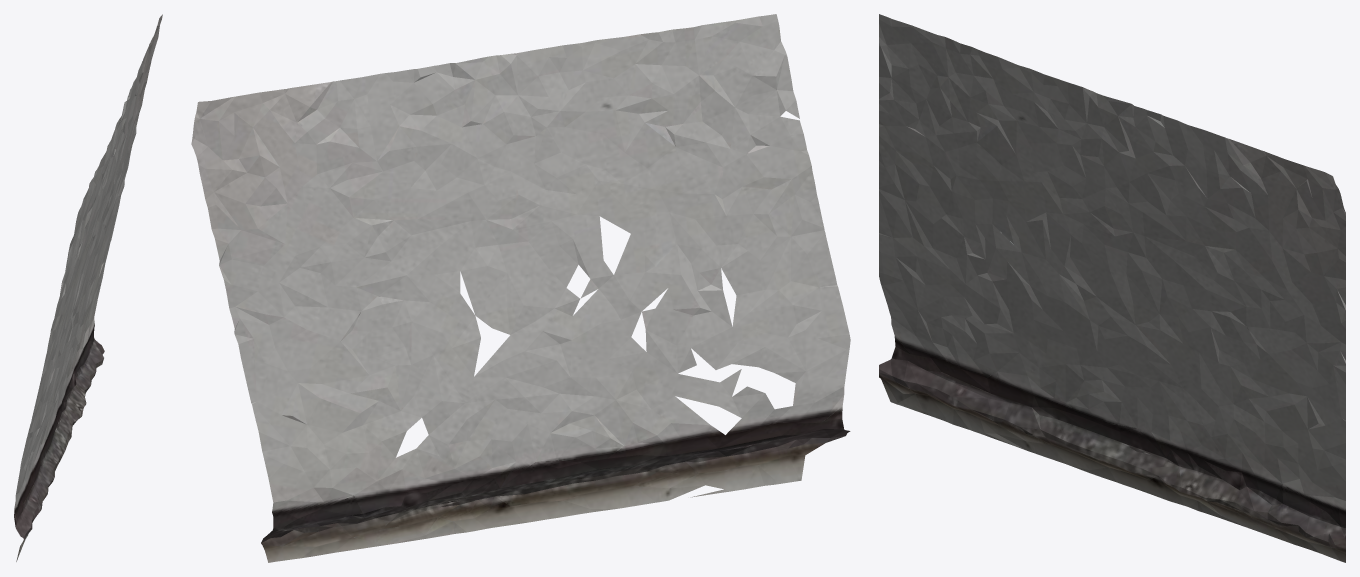
The picture shows the model from 3 angles, left to right: view 1: azimuth 30°, elevation 25°; view 2: azimuth 150°, elevation 25°; view 3: azimuth 270°, elevation 25°; orthographic projection. The views are drawn at different scales.
Size of the model in its own units: 0.8373 by 0.8373 by 0.8374.
Materials: 4 (4 with a texture image).
